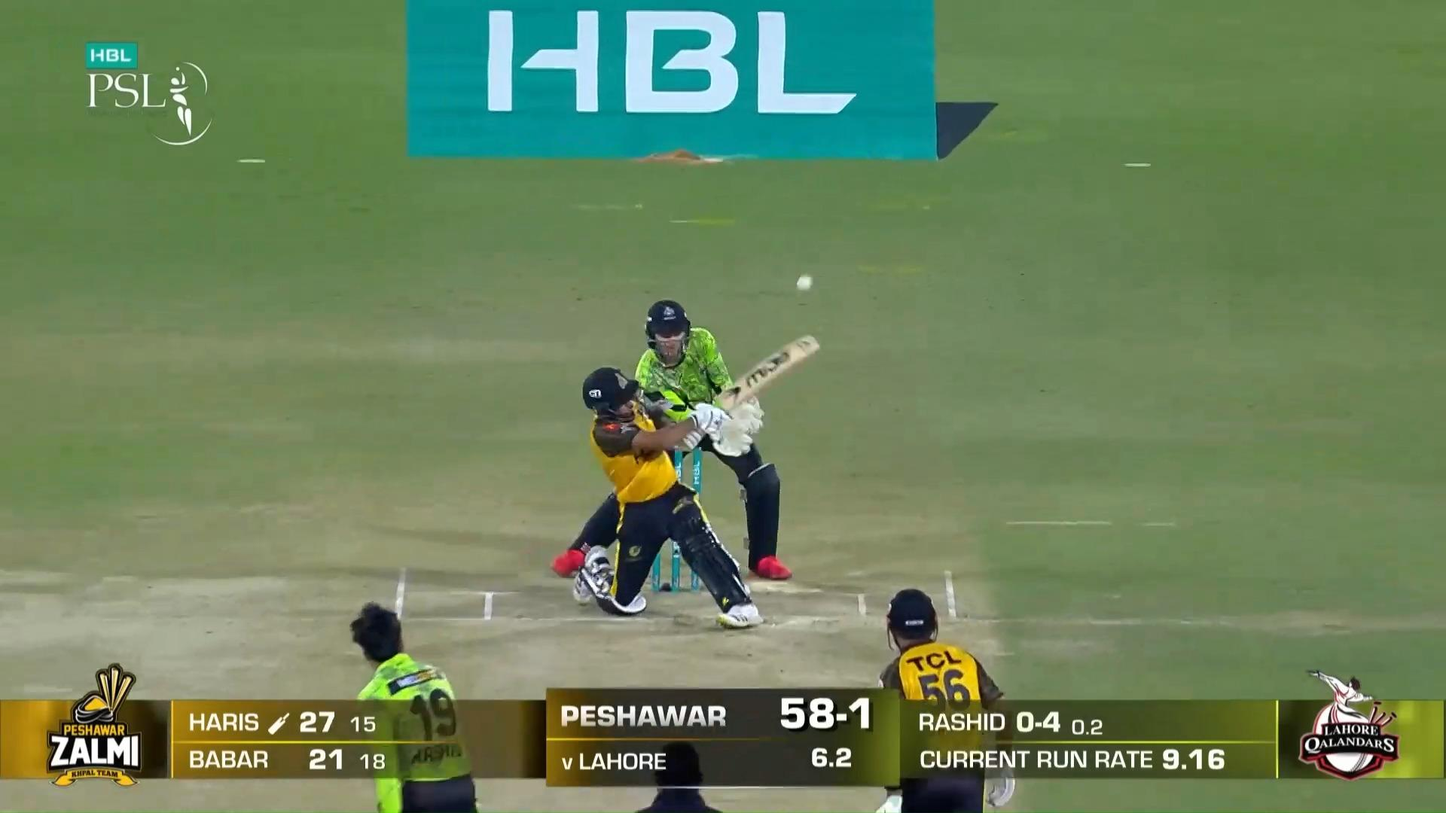batsman: (570, 332, 821, 631)
